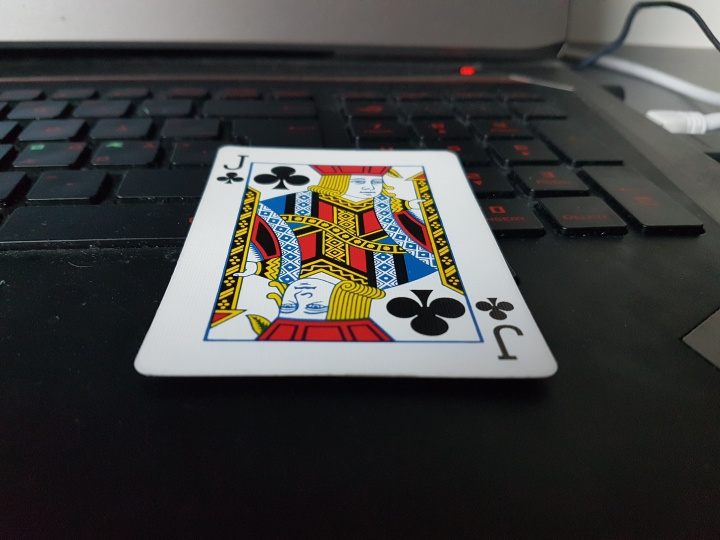jack: (128, 145, 560, 378)
